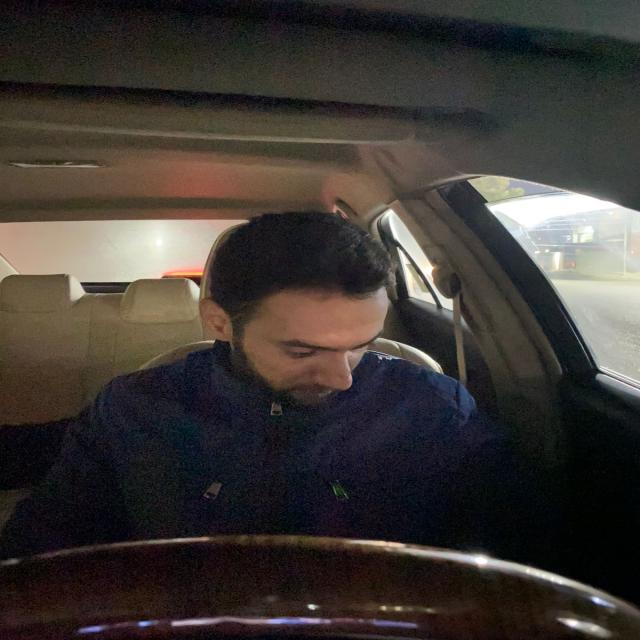drowsy: (199, 204, 405, 422)
